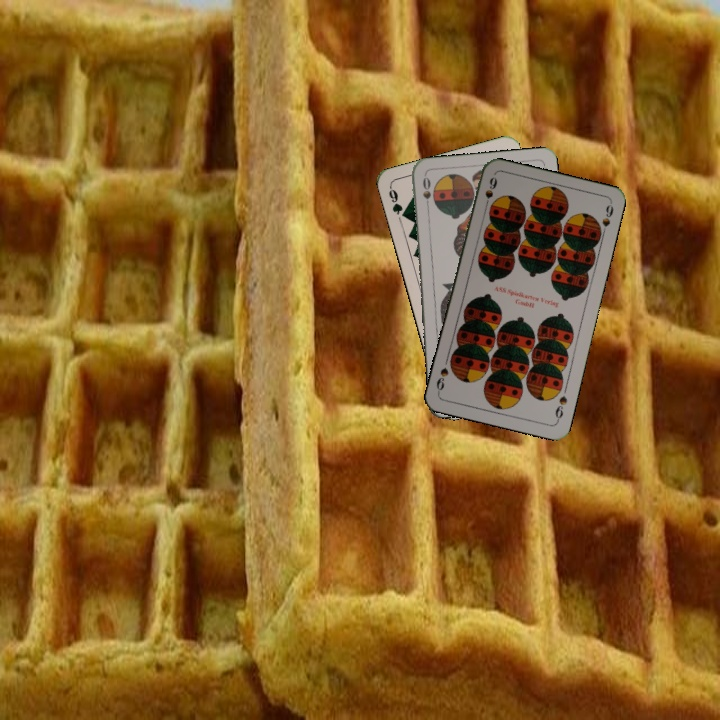G9: (385, 183, 410, 221)
S9: (480, 173, 500, 213), (551, 392, 570, 424)
SO: (419, 172, 433, 213)
